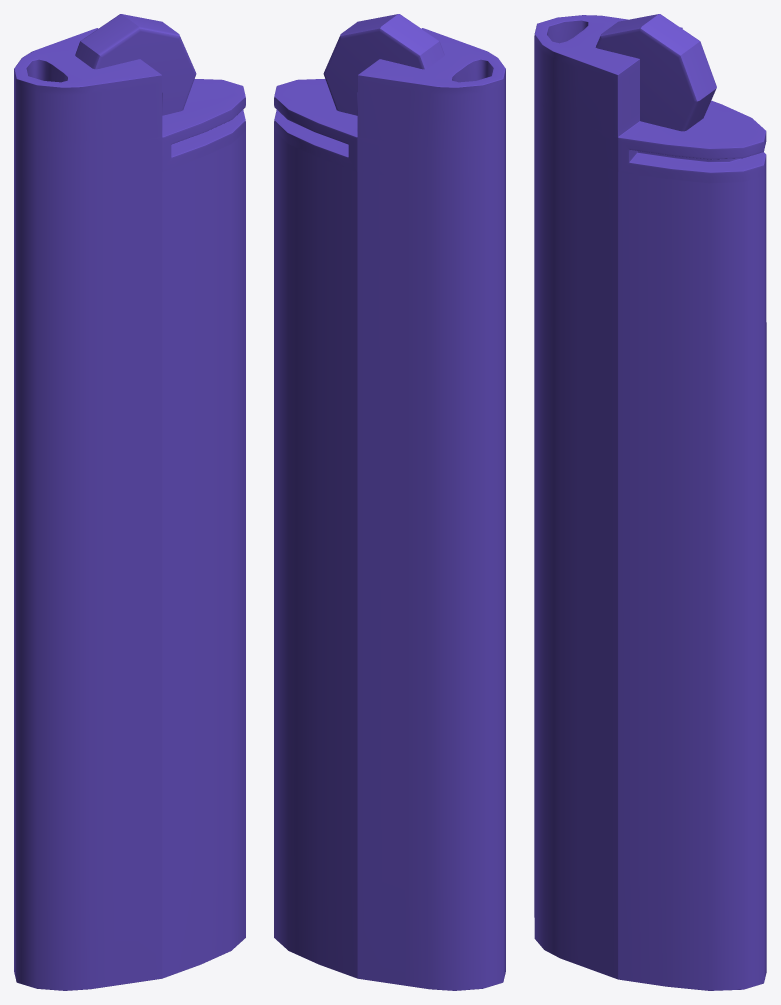
Rendered from lighter_test_v001.fbx.
The picture shows the model from 3 angles, left to right: view 1: azimuth 30°, elevation 25°; view 2: azimuth 150°, elevation 25°; view 3: azimuth 330°, elevation 25°; orthographic projection.
Visible parts, largest first — view 1: lighter_v001_hi:lighter_geo; view 2: lighter_v001_hi:lighter_geo; view 3: lighter_v001_hi:lighter_geo.
Boxes of the visible parts, x1,y1,x2,y2 form: lighter_v001_hi:lighter_geo: (14,14,245,990); lighter_v001_hi:lighter_geo: (274,14,505,990); lighter_v001_hi:lighter_geo: (534,14,766,990).
Size of the model in its own units: 2.17 by 8.54 by 1.07.
